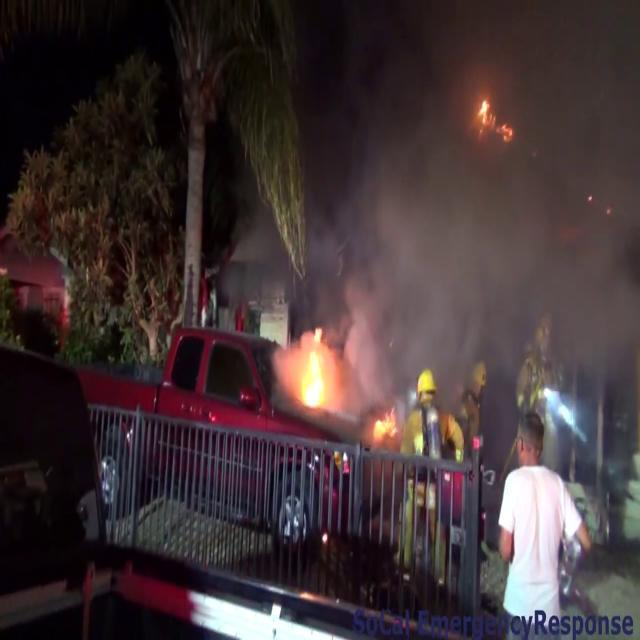Fire: (288, 324, 339, 422), (370, 402, 420, 452)
Smoke: (300, 0, 639, 365)
